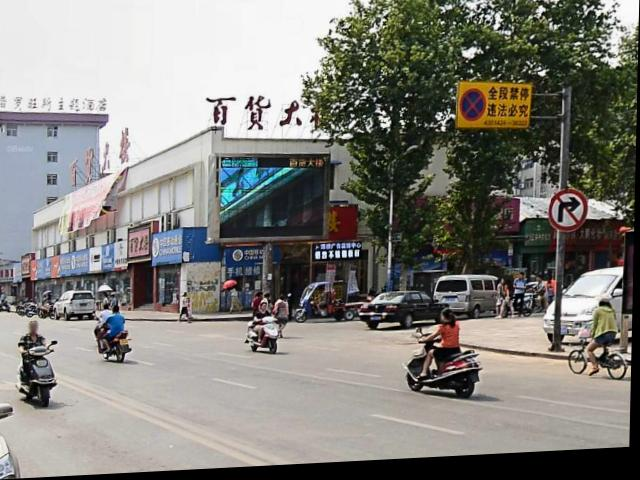not_turn_right: (546, 189, 594, 243)
